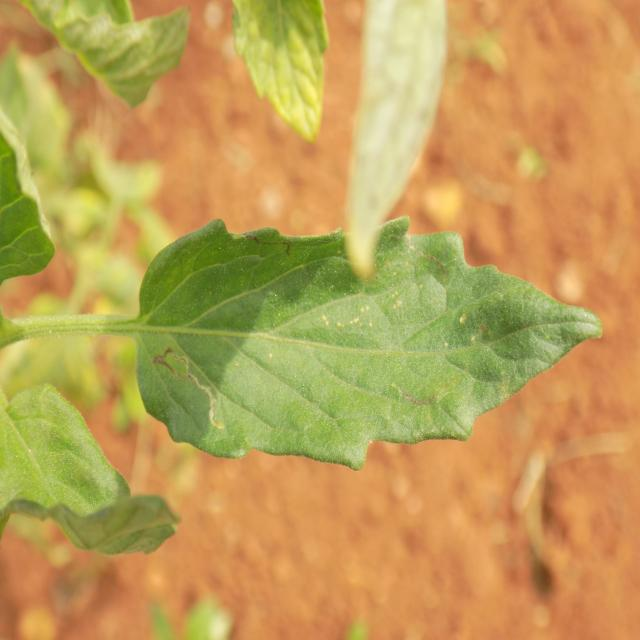tomato_healthy: (136, 217, 604, 467)
